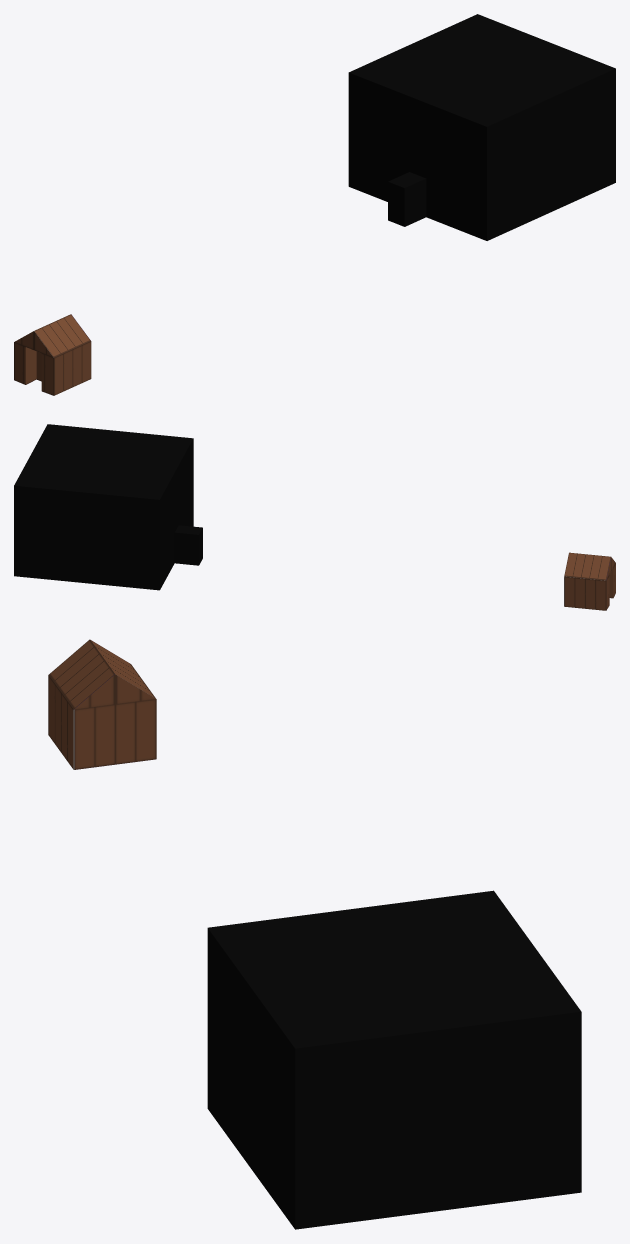
The model's file is ForestHouseFix.fbx.
3 views of the same model, one above another, from view 1: azimuth 30°, elevation 25°; view 2: azimuth 150°, elevation 25°; view 3: azimuth 270°, elevation 25° (orthographic). The views are drawn at different scales.
Visible parts, largest first — view 1: GreenerInside, House; view 2: GreenerInside, House; view 3: GreenerInside, House.
Boxes of the visible parts, bbox=[...] form: GreenerInside: bbox=[348, 14, 615, 240]; House: bbox=[14, 314, 91, 395]; GreenerInside: bbox=[14, 424, 202, 590]; House: bbox=[564, 552, 615, 610]; GreenerInside: bbox=[207, 890, 581, 1229]; House: bbox=[48, 639, 156, 769].
Size of the model in its own units: 5390 by 2403 by 900.
Materials: 2 (1 with a texture image).
